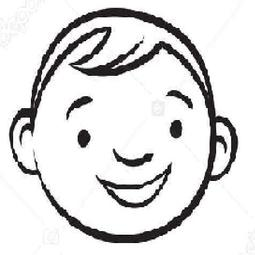ear: (204, 113, 246, 183), (3, 110, 43, 176)
eyebrow: (66, 92, 97, 119), (164, 88, 196, 110)
nose: (109, 138, 159, 171)
open_mouth: (99, 161, 174, 210)
small_eye: (164, 114, 187, 143), (74, 126, 93, 148)
